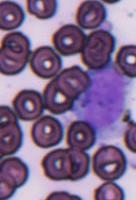M: (79, 66, 130, 130)
